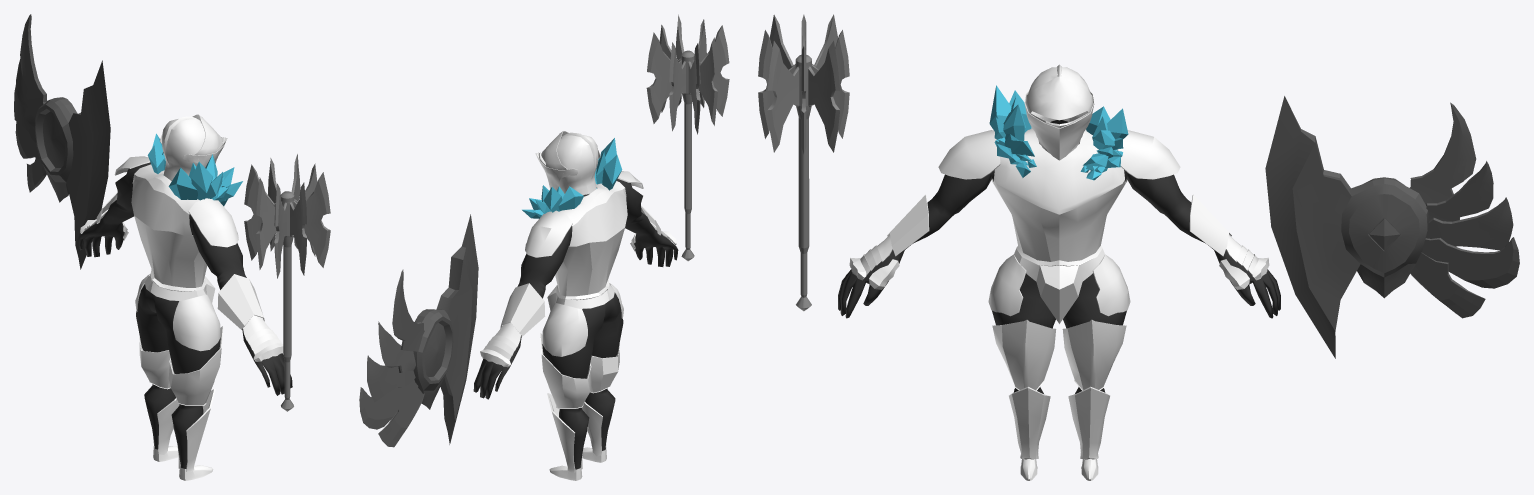
Rendered from DM_Armor_LP.fbx.
3 views of the same model, side by side, from view 1: azimuth 30°, elevation 25°; view 2: azimuth 150°, elevation 25°; view 3: azimuth 270°, elevation 25° (orthographic). The views are drawn at different scales.
Visible parts, largest first — view 1: Armor_low, Shield_low, Bland_low, Maze_low, Icicles_low; view 2: Armor_low, Shield_low, Bland_low, Maze_low, Icicles_low; view 3: Armor_low, Shield_low, Maze_low, Bland_low, Icicles_low.
Part boxes in pixels (left/top/right/bottom): Armor_low: left=80, top=114, right=283, bottom=480; Shield_low: left=14, top=14, right=110, bottom=269; Bland_low: left=78, top=162, right=292, bottom=468; Maze_low: left=244, top=154, right=330, bottom=411; Icicles_low: left=147, top=133, right=242, bottom=206; Armor_low: left=480, top=130, right=676, bottom=480; Shield_low: left=359, top=214, right=478, bottom=447; Bland_low: left=473, top=179, right=678, bottom=469; Maze_low: left=646, top=14, right=729, bottom=261; Icicles_low: left=522, top=138, right=622, bottom=218; Armor_low: left=849, top=64, right=1269, bottom=480; Shield_low: left=1265, top=96, right=1519, bottom=358; Maze_low: left=758, top=14, right=849, bottom=311; Bland_low: left=838, top=120, right=1280, bottom=459; Icicles_low: left=989, top=85, right=1128, bottom=180.
Size of the model in its own units: 108 by 466 by 728.
